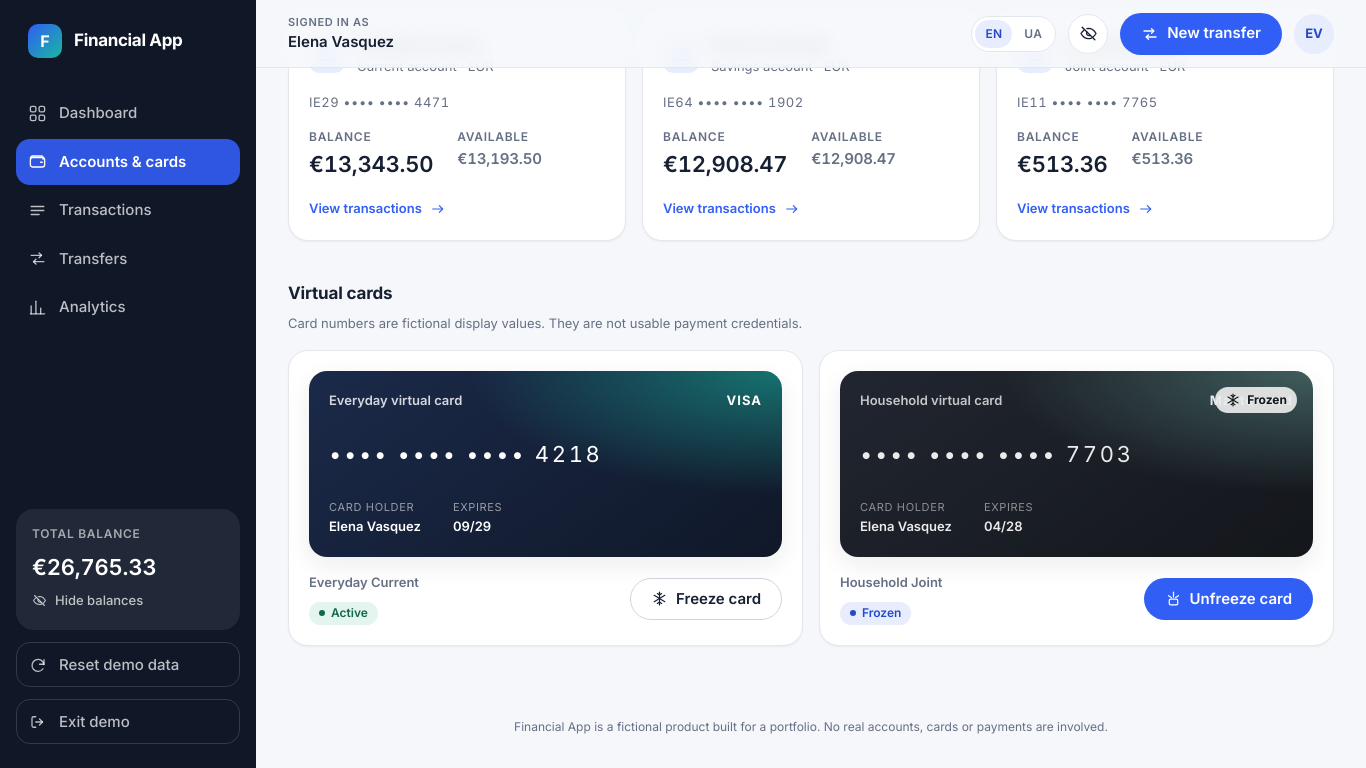
it: AccountsPage › requires confirmation before freezing a card
(page scrolled)
Click the button "Freeze card" at (706, 598), box [630,578,782,620]
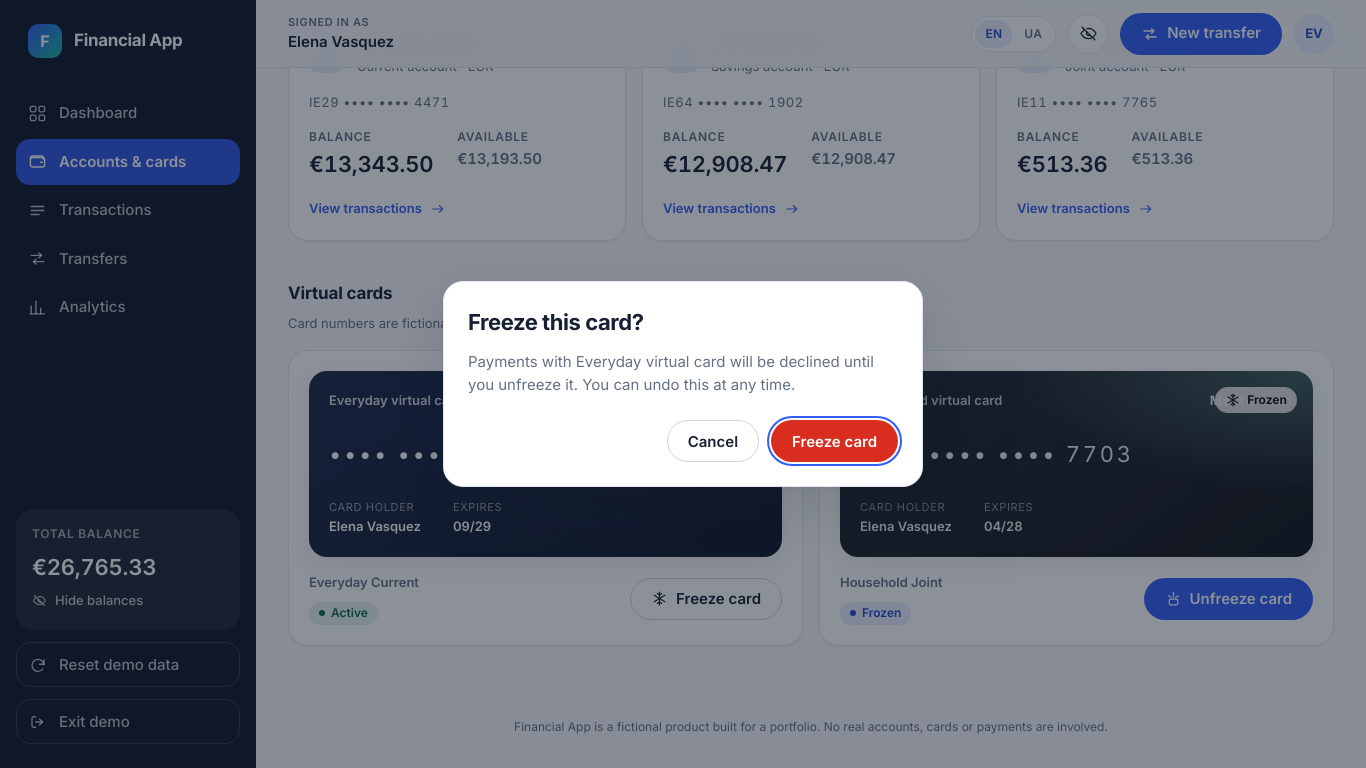
Click the button "Cancel" at (713, 441), box [667,420,759,462]
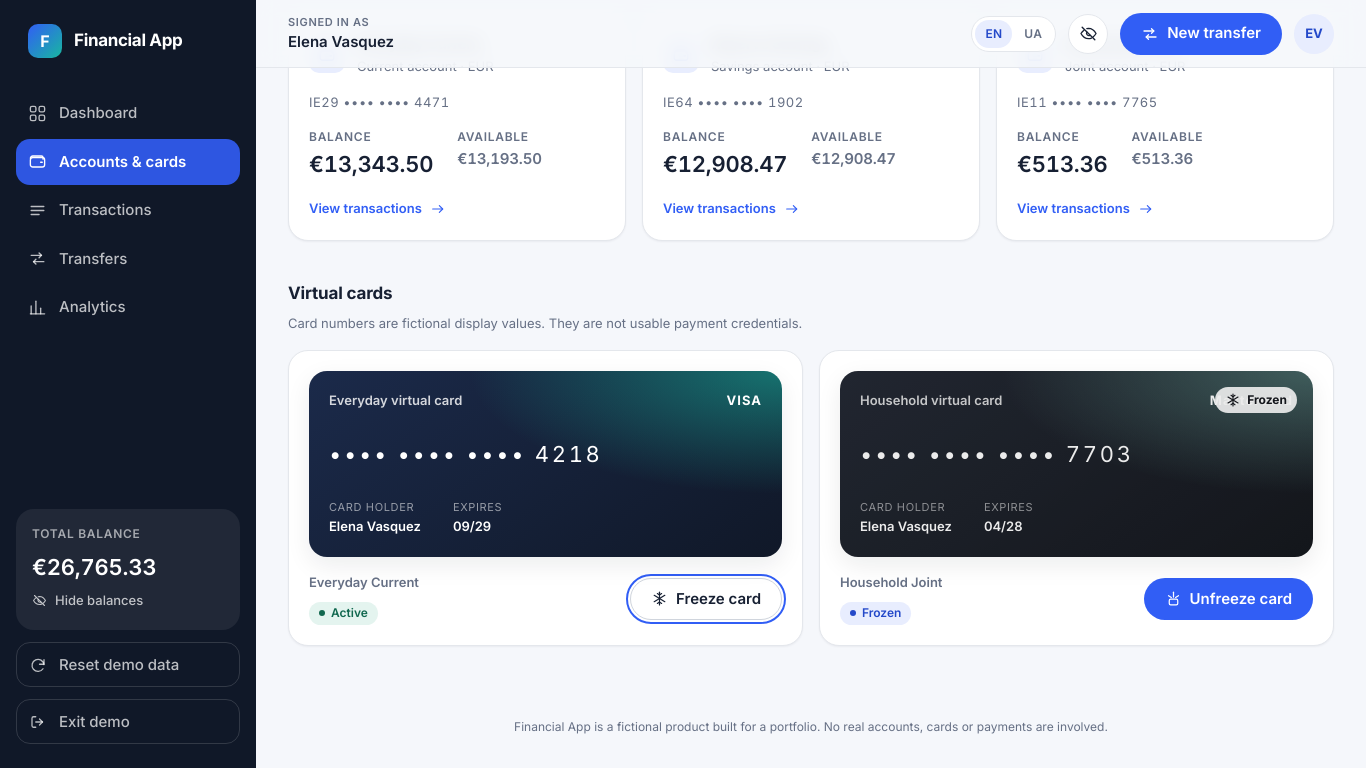
expect the dialog is gone: met
